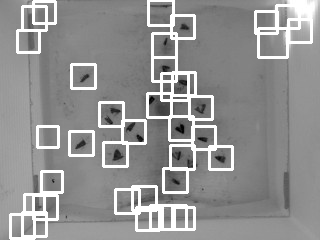insect: (111, 147, 125, 162), (192, 102, 206, 114), (73, 138, 87, 150), (185, 158, 200, 168), (124, 120, 136, 132), (174, 122, 185, 135), (169, 149, 182, 160), (159, 64, 171, 75), (78, 72, 90, 83), (103, 114, 114, 125), (109, 105, 121, 115), (213, 154, 226, 163), (146, 95, 156, 106), (134, 132, 144, 143), (170, 176, 182, 185), (179, 22, 190, 31), (177, 78, 189, 86), (196, 135, 208, 143), (162, 36, 168, 46)
